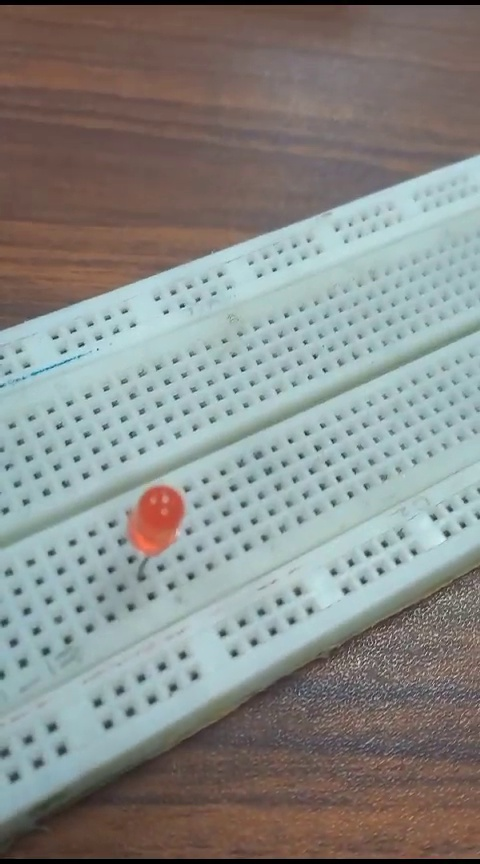LED: (127, 481, 190, 584)
